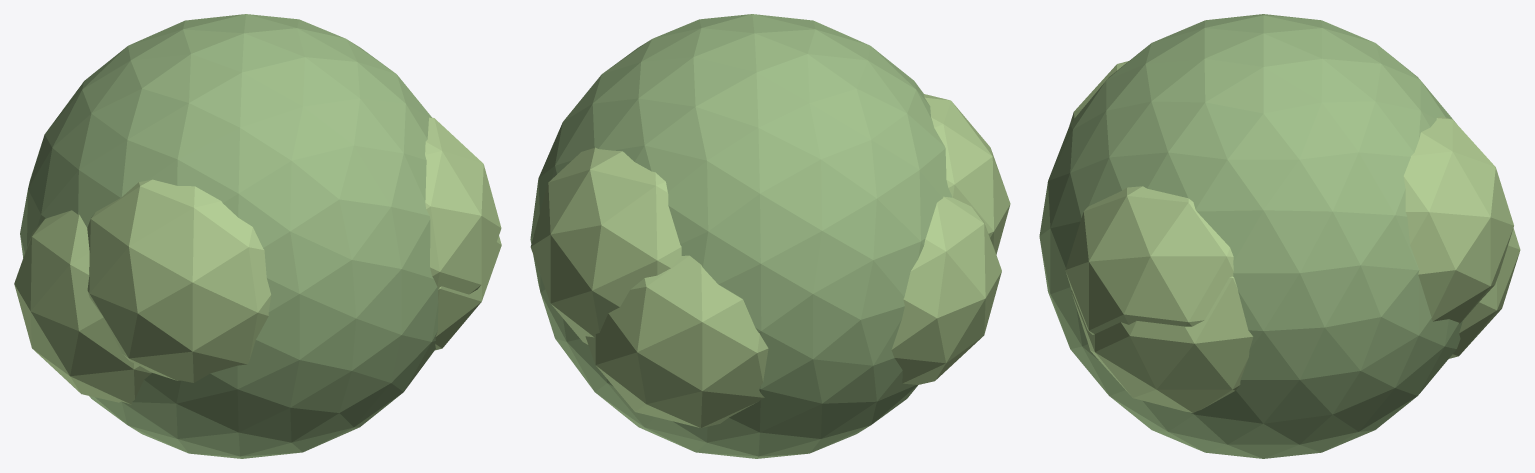
File: bush.glb
3 views of the same model, side by side, from view 1: azimuth 30°, elevation 25°; view 2: azimuth 150°, elevation 25°; view 3: azimuth 270°, elevation 25° (orthographic).
Visible parts, largest first — view 1: bush_leaf, bush_leaf2; view 2: bush_leaf, bush_leaf2; view 3: bush_leaf, bush_leaf2.
Boxes of the visible parts, <box> form: bush_leaf: <box>20,14,438,458</box>; bush_leaf2: <box>14,117,501,404</box>; bush_leaf: <box>530,14,952,458</box>; bush_leaf2: <box>530,94,1010,427</box>; bush_leaf: <box>1039,14,1462,458</box>; bush_leaf2: <box>1065,61,1520,412</box>.
Size of the model in its own units: 0.9945 by 0.9 by 0.9662.
